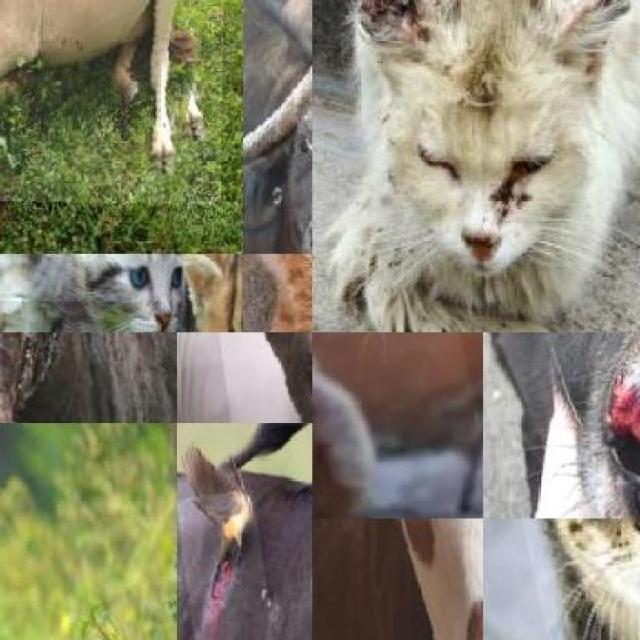buffalo: (243, 0, 312, 254)
cat: (326, 0, 640, 332), (483, 518, 640, 640), (89, 254, 197, 332), (191, 254, 243, 332), (0, 254, 88, 300)
cow: (0, 0, 226, 203), (312, 518, 483, 640), (0, 332, 177, 423)
dog: (312, 332, 483, 518), (483, 332, 640, 518)
injured: (552, 332, 640, 518), (176, 487, 275, 640), (351, 0, 437, 109)
